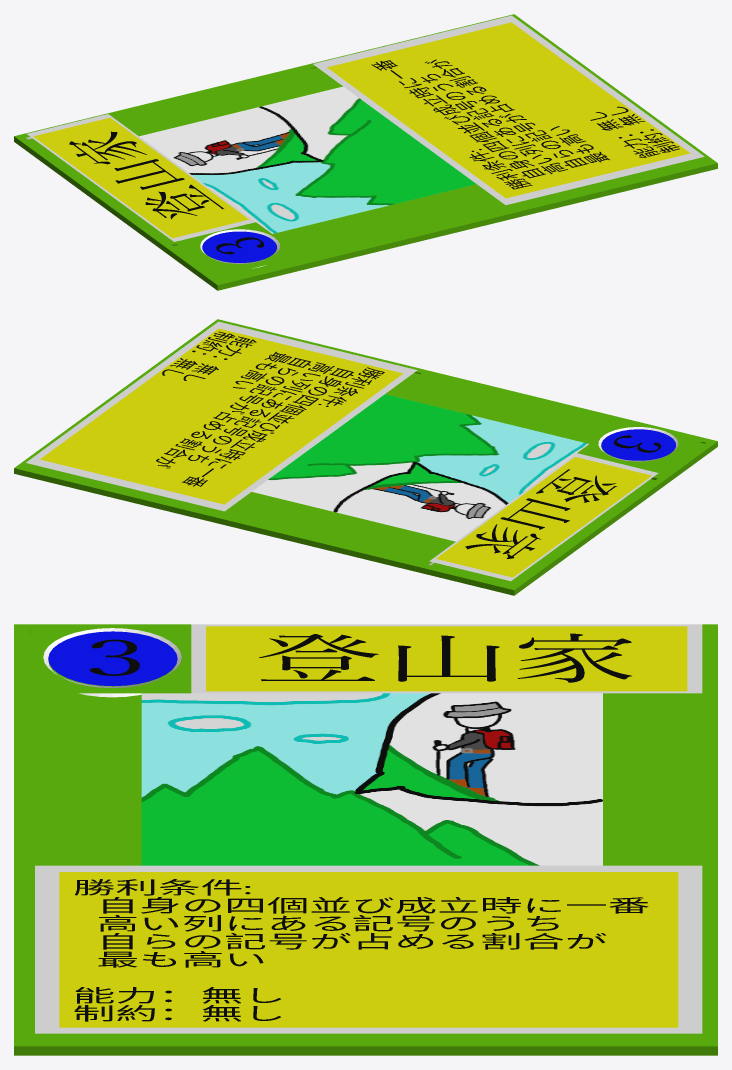
Rendered from 登山家緑.fbx.
3 views of the same model, one above another, from view 1: azimuth 30°, elevation 25°; view 2: azimuth 150°, elevation 25°; view 3: azimuth 270°, elevation 25° (orthographic). The views are drawn at different scales.
Parts seen in each view (by area): view 1: 説明欄, 平面.001, カード本体.001, 名前欄, 説明文, 円, 平面, 名前; view 2: 説明欄, 平面.001, カード本体.001, 名前欄, 説明文, 円, 平面, 名前; view 3: 説明欄, 平面.001, カード本体.001, 名前欄, 説明文, 円, 平面, 名前, コスト蘭.
Part boxes in pixels (x1,y1,x2,y2): 説明欄: [313, 15, 704, 205]; 平面.001: [139, 86, 476, 233]; カード本体.001: [14, 14, 717, 290]; 名前欄: [27, 114, 255, 241]; 説明文: [371, 59, 679, 189]; 円: [202, 231, 276, 262]; 平面: [174, 222, 302, 275]; 名前: [69, 131, 223, 219]; 説明欄: [26, 321, 417, 511]; 平面.001: [252, 394, 588, 541]; カード本体.001: [14, 319, 717, 595]; 名前欄: [429, 453, 658, 581]; 説明文: [156, 331, 384, 486]; 円: [601, 429, 675, 460]; 平面: [577, 419, 704, 472]; 名前: [465, 469, 616, 558]; 説明欄: [35, 865, 702, 1033]; 平面.001: [141, 693, 602, 865]; カード本体.001: [14, 624, 717, 1055]; 名前欄: [191, 624, 702, 693]; 説明文: [74, 879, 648, 1021]; 円: [48, 631, 177, 686]; 平面: [30, 624, 191, 693]; 名前: [259, 633, 631, 682]; コスト蘭: [43, 628, 181, 697].
Size of the model in its own units: 281 by 6.07 by 198.
